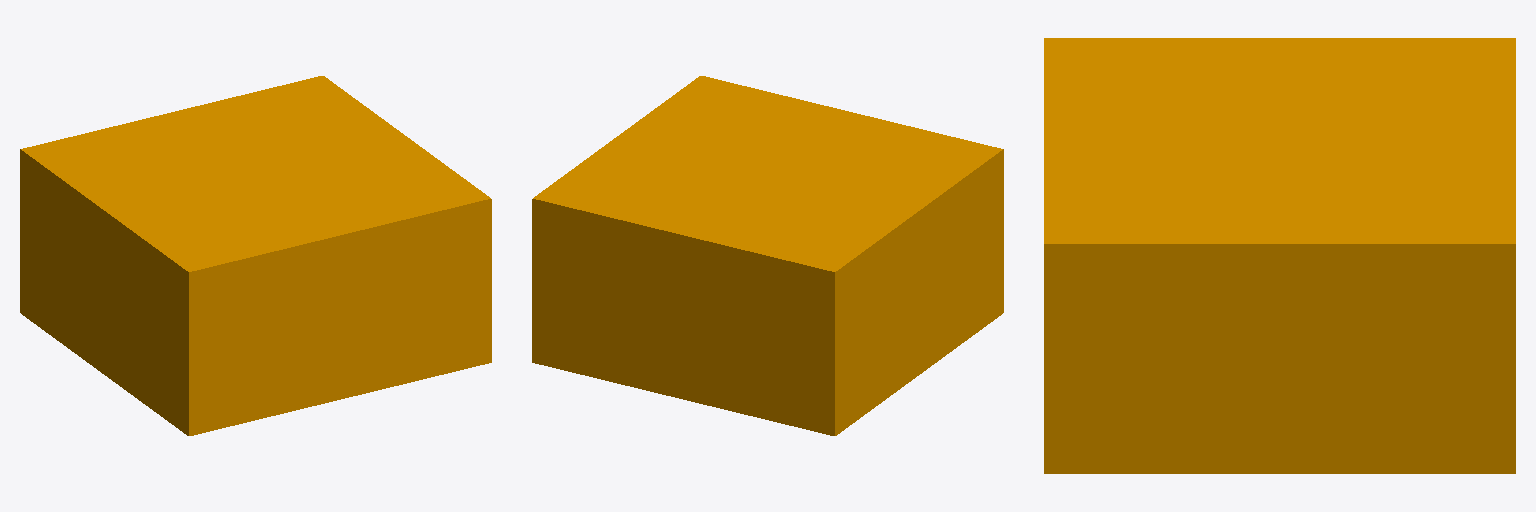
URDF robot description (2x2):
<?xml version='1.0' encoding='UTF-8'?>
<robot name="2x2">
  <link name="base_link">
    <inertial>
      <origin xyz="0.0 0.0 0.0" rpy="0.0 0.0 0.0"/>
      <mass value="0.01"/>
      <inertia ixx="0.1" ixy="0.0" ixz="0.0" iyy="0.1" iyz="0.0" izz="0.1"/>
    </inertial>
    <visual>
      <geometry>
        <box size="0.027 0.026 0.014"/>
      </geometry>
      <material name=""/>
      <origin xyz="0.0 0.0 0.0" rpy="0.0 0.0 0.0"/>
    </visual>
    <collision>
      <geometry>
        <box size="0.027 0.026 0.014"/>
      </geometry>
      <origin xyz="0.0 0.0 0.0" rpy="0.0 0.0 0.0"/>
    </collision>
  </link>
  <material name="">
    <color rgba="0.636 0.891 0.637 1.   "/>
  </material>
  <contact>
    <lateral_friction value="1.0"/>
    <rolling_friction value="0.0"/>
    <contact_cfm value="0.0"/>
    <contact_erp value="1.0"/>
  </contact>
</robot>

--- What the picture shows (computed from the rendered views, not written in the file) ---
Views: 3 orthographic renders of the robot side by side, from view 1: azimuth 30°, elevation 25°; view 2: azimuth 150°, elevation 25°; view 3: azimuth 270°, elevation 25°.
Robot: 2x2 — 1 links, 0 joints (none); root link base_link; default pose: every joint at zero.
Links seen in each view (by area): view 1: base_link; view 2: base_link; view 3: base_link.
Link boxes in pixels (x1,y1,x2,y2): base_link: (20,76,491,435); base_link: (532,76,1003,435); base_link: (1044,38,1515,473).
Size in the robot's own frame: 0.027 by 0.026 by 0.014 metres.
Geometry: primitives only (box / cylinder / sphere), no mesh files.